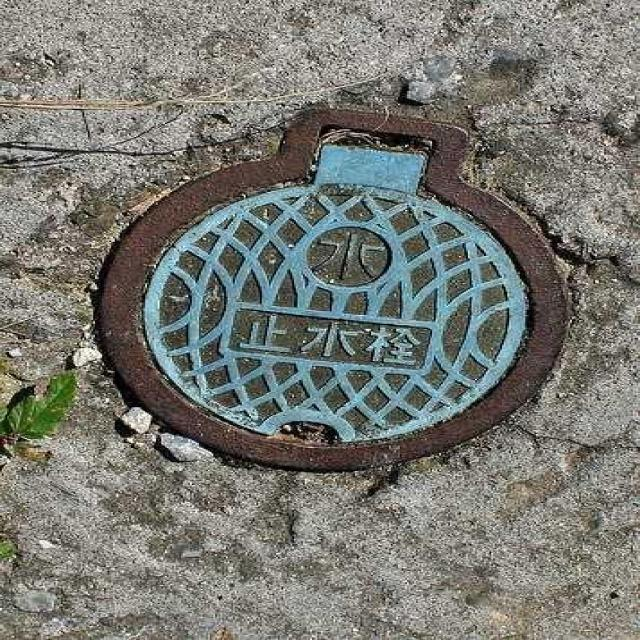manhole: (100, 107, 567, 469)
